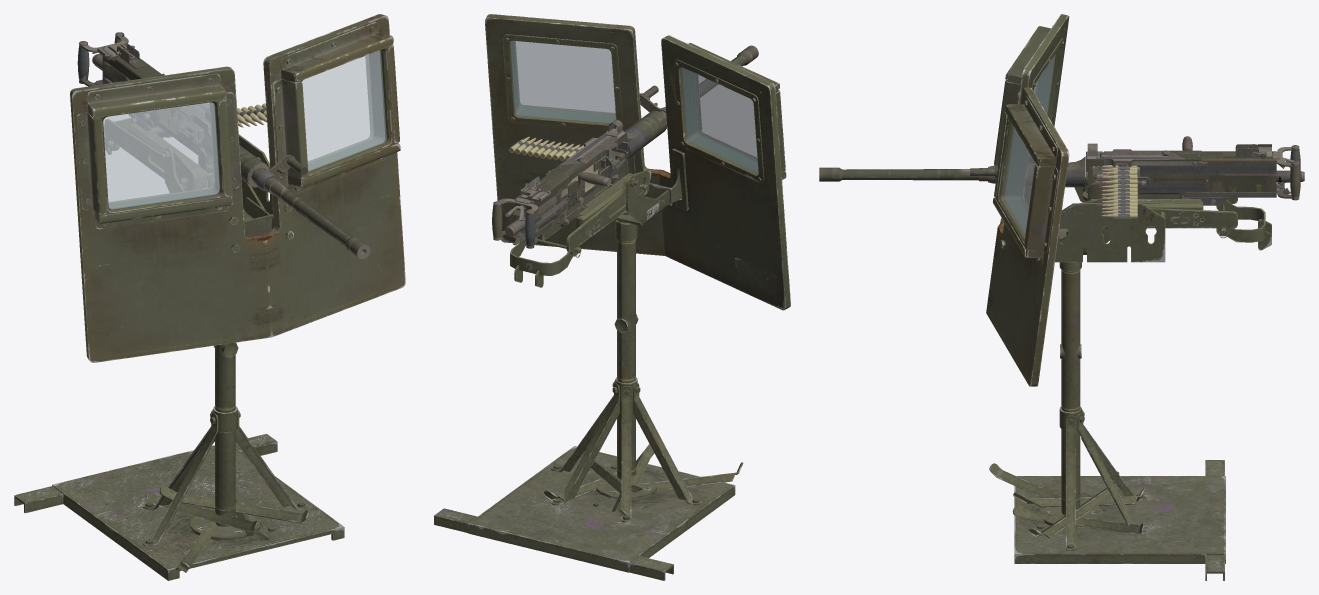
The model's file is VEH_M2MG.glb.
3 views of the same model, side by side, from view 1: azimuth 30°, elevation 25°; view 2: azimuth 150°, elevation 25°; view 3: azimuth 270°, elevation 25° (orthographic). The views are drawn at different scales.
Visible parts, largest first — view 1: ob_veh_stationary_m2mg_shield_s0_p0, ob_veh_stationary_m2mg_base_s0, ob_veh_stationary_m2mg_shield_s1_p0, ob_vehatt_weapon_browningm2_mountedbase_s0, ob_vehatt_weapon_browningm2_mountedbase_s1; view 2: ob_veh_stationary_m2mg_shield_s0_p0, ob_veh_stationary_m2mg_base_s0, ob_veh_stationary_m2mg_shield_s1_p0, ob_vehatt_weapon_browningm2_mountedbase_s0, ob_vehatt_weapon_browningm2_mountedbase_s1; view 3: ob_veh_stationary_m2mg_base_s0, ob_veh_stationary_m2mg_shield_s0_p0, ob_vehatt_weapon_browningm2_mountedbase_s0, ob_veh_stationary_m2mg_shield_s1_p0, ob_vehatt_weapon_browningm2_mountedbase_s1.
Boxes of the visible parts, <box> form: ob_veh_stationary_m2mg_shield_s0_p0: <box>70,14,405,362</box>; ob_veh_stationary_m2mg_base_s0: <box>14,118,344,580</box>; ob_veh_stationary_m2mg_shield_s1_p0: <box>103,50,386,208</box>; ob_vehatt_weapon_browningm2_mountedbase_s0: <box>77,32,370,259</box>; ob_vehatt_weapon_browningm2_mountedbase_s1: <box>193,103,266,127</box>; ob_veh_stationary_m2mg_shield_s0_p0: <box>485,14,790,310</box>; ob_veh_stationary_m2mg_base_s0: <box>434,170,743,580</box>; ob_veh_stationary_m2mg_shield_s1_p0: <box>510,41,758,172</box>; ob_vehatt_weapon_browningm2_mountedbase_s0: <box>492,45,758,248</box>; ob_vehatt_weapon_browningm2_mountedbase_s1: <box>509,136,583,160</box>; ob_veh_stationary_m2mg_base_s0: <box>989,177,1271,580</box>; ob_veh_stationary_m2mg_shield_s0_p0: <box>986,14,1069,386</box>; ob_vehatt_weapon_browningm2_mountedbase_s0: <box>819,136,1304,205</box>; ob_veh_stationary_m2mg_shield_s1_p0: <box>1004,54,1055,234</box>; ob_vehatt_weapon_browningm2_mountedbase_s1: <box>1100,164,1137,218</box>.
Size of the model in its own units: 1.13 by 1.68 by 1.65.
Materials: 4 (3 with a texture image).
